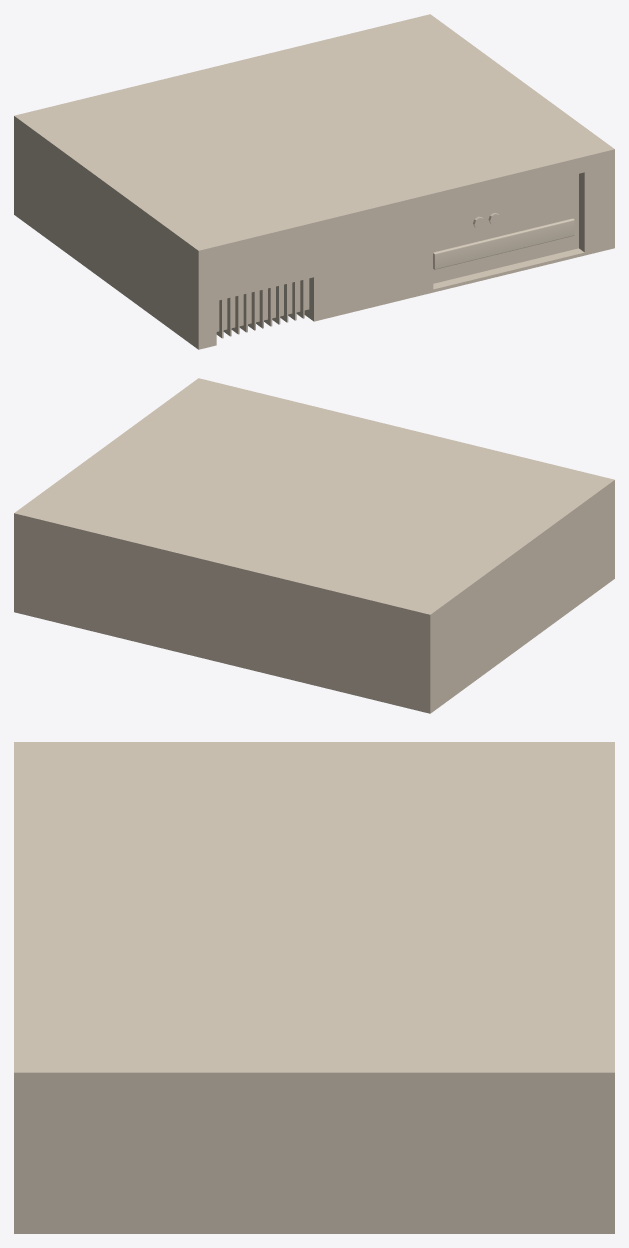
File: 3D_pc_main.fbx
The picture shows the model from 3 angles, top to bottom: view 1: azimuth 30°, elevation 25°; view 2: azimuth 150°, elevation 25°; view 3: azimuth 270°, elevation 25°; orthographic projection. The views are drawn at different scales.
Parts seen in each view (by area): view 1: pc_main, pc_disk; view 2: pc_main; view 3: pc_main.
Part boxes in pixels (x1,y1,x2,y2): pc_main: [14, 14, 614, 349]; pc_disk: [433, 218, 574, 269]; pc_main: [14, 378, 614, 713]; pc_main: [14, 742, 614, 1233].
Bounding box in the file's own units: 125 × 28.49 × 96.29.
